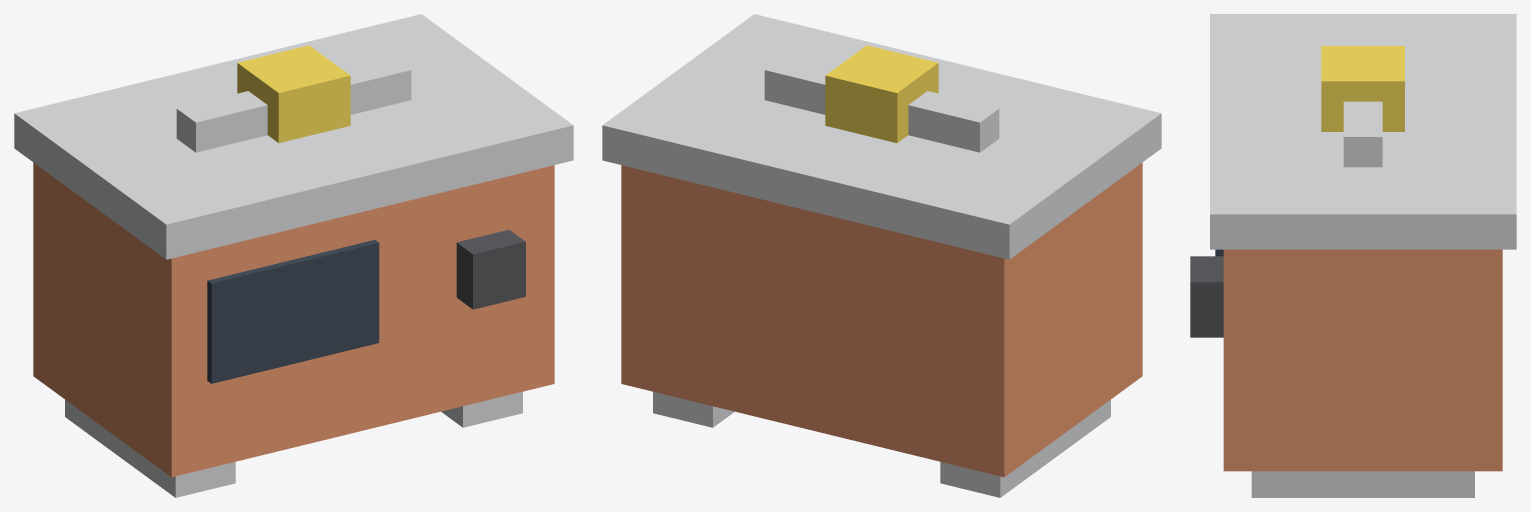
Rendered from sample.glb.
The picture shows the model from 3 angles, left to right: view 1: azimuth 30°, elevation 25°; view 2: azimuth 150°, elevation 25°; view 3: azimuth 270°, elevation 25°; orthographic projection.
Parts seen in each view (by area): view 1: Gehaeuse, Deckel, Display, Aufsatz_Leuchte, Aufsatz_Griff, Drehknopf, Fuss_links, Fuss_rechts; view 2: Gehaeuse, Deckel, Aufsatz_Leuchte, Aufsatz_Griff, Fuss_links, Fuss_rechts; view 3: Deckel, Gehaeuse, Aufsatz_Leuchte, Fuss_rechts, Aufsatz_Griff, Drehknopf.
Part boxes in pixels (x1,y1,x2,y2): Gehaeuse: [33, 162, 554, 477]; Deckel: [14, 14, 573, 259]; Display: [207, 240, 379, 383]; Aufsatz_Leuchte: [237, 45, 350, 142]; Aufsatz_Griff: [176, 56, 411, 152]; Drehknopf: [456, 229, 525, 309]; Fuss_links: [65, 399, 235, 497]; Fuss_rechts: [441, 391, 522, 427]; Gehaeuse: [621, 162, 1142, 477]; Deckel: [602, 14, 1161, 259]; Aufsatz_Leuchte: [825, 45, 938, 142]; Aufsatz_Griff: [764, 56, 999, 152]; Fuss_links: [940, 399, 1110, 497]; Fuss_rechts: [653, 391, 734, 427]; Deckel: [1210, 14, 1516, 249]; Gehaeuse: [1223, 249, 1502, 471]; Aufsatz_Leuchte: [1321, 46, 1404, 131]; Fuss_rechts: [1251, 471, 1474, 497]; Aufsatz_Griff: [1343, 30, 1382, 167]; Drehknopf: [1190, 256, 1223, 337].
Size of the model in its own units: 1.7 by 1.38 by 1.17.
